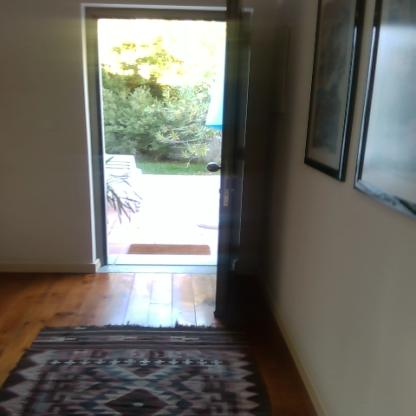open: (59, 0, 253, 278)
